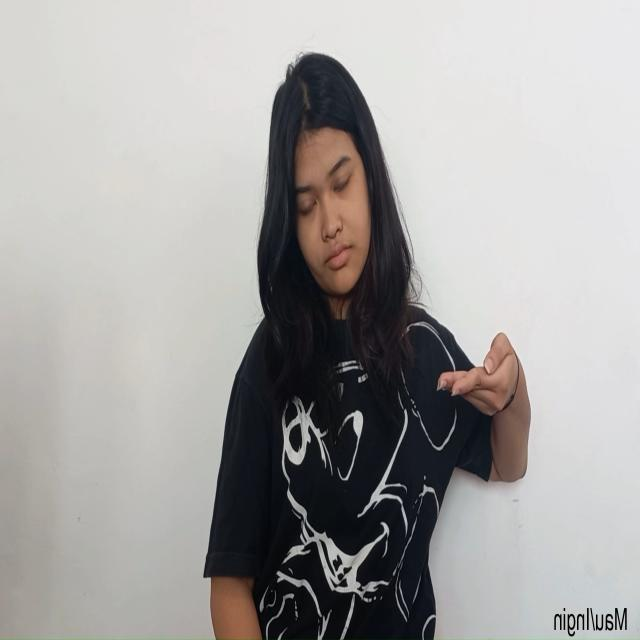Mau-Ingin -BISINDO-: (432, 326, 526, 422)
